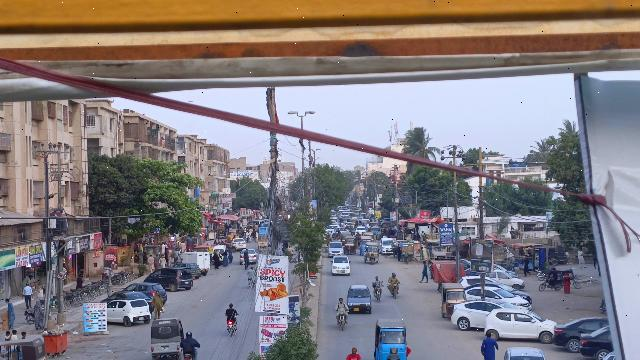Bike: (223, 319, 240, 336), (390, 282, 403, 300), (337, 312, 347, 331), (373, 285, 384, 302), (182, 354, 194, 360)
Car: (483, 306, 557, 346), (448, 298, 519, 331), (552, 316, 610, 353), (143, 266, 195, 290), (107, 298, 151, 326), (576, 322, 609, 356), (122, 281, 167, 304), (345, 283, 373, 315), (501, 344, 545, 360), (330, 255, 352, 277), (173, 263, 201, 279)
Person: (476, 328, 499, 360), (4, 295, 18, 330), (180, 328, 199, 351), (151, 290, 165, 319), (20, 281, 35, 308), (416, 259, 430, 283), (334, 296, 349, 315), (224, 301, 239, 319), (386, 269, 401, 285), (372, 274, 383, 290)
Rickshaw: (373, 316, 410, 360), (148, 316, 185, 359), (438, 279, 465, 319), (363, 242, 380, 265)
Truck: (176, 252, 212, 275)
